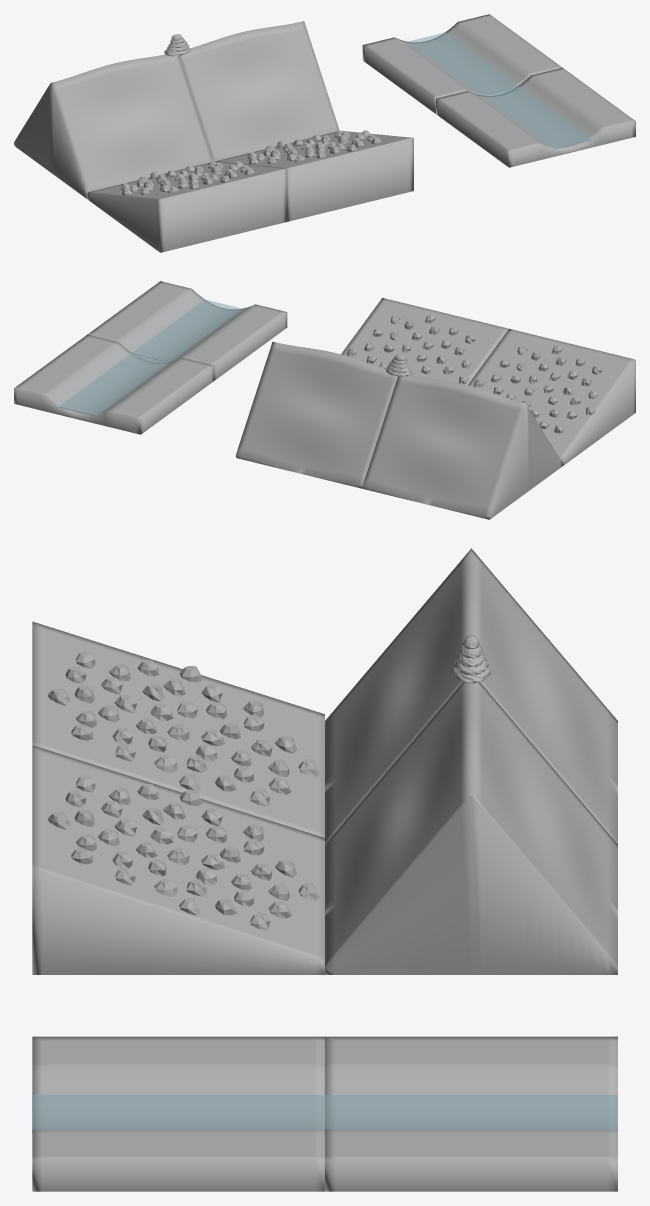
Rendered from alpine-and-arctic-biomes-summit-ridge-f236b96d__21064.glb.
3 renders of one model, top to bottom at view 1: azimuth 30°, elevation 25°; view 2: azimuth 150°, elevation 25°; view 3: azimuth 270°, elevation 25°, orthographic. The views are drawn at different scales.
Parts seen in each view (by area): view 1: 000-arete-ridge/0, 001-arete-ridge/0, 006-meltwater-straight/0, 002-scree-slope/0, 005-meltwater-straight/0, 003-scree-slope/0, 006-meltwater-straight/1, 005-meltwater-straight/1; view 2: 000-arete-ridge/0, 001-arete-ridge/0, 005-meltwater-straight/0, 002-scree-slope/0, 006-meltwater-straight/0, 003-scree-slope/0, 005-meltwater-straight/1, 006-meltwater-straight/1; view 3: 001-arete-ridge/0, 005-meltwater-straight/0, 006-meltwater-straight/0, 003-scree-slope/0, 000-arete-ridge/0, 002-scree-slope/0, 006-meltwater-straight/1, 005-meltwater-straight/1.
Boxes of the visible parts, x1=… form: 000-arete-ridge/0: x1=14, y1=54, x2=212, y2=198; 001-arete-ridge/0: x1=179, y1=21, x2=339, y2=161; 006-meltwater-straight/0: x1=436, y1=67, x2=635, y2=167; 002-scree-slope/0: x1=87, y1=162, x2=287, y2=252; 005-meltwater-straight/0: x1=362, y1=14, x2=562, y2=113; 003-scree-slope/0: x1=215, y1=131, x2=413, y2=221; 006-meltwater-straight/1: x1=481, y1=86, x2=591, y2=149; 005-meltwater-straight/1: x1=408, y1=32, x2=517, y2=95; 000-arete-ridge/0: x1=362, y1=375, x2=562, y2=519; 001-arete-ridge/0: x1=236, y1=341, x2=397, y2=488; 005-meltwater-straight/0: x1=14, y1=334, x2=213, y2=434; 002-scree-slope/0: x1=468, y1=328, x2=635, y2=465; 006-meltwater-straight/0: x1=87, y1=281, x2=287, y2=380; 003-scree-slope/0: x1=341, y1=298, x2=508, y2=385; 005-meltwater-straight/1: x1=59, y1=353, x2=168, y2=415; 006-meltwater-straight/1: x1=132, y1=299, x2=241, y2=361; 001-arete-ridge/0: x1=325, y1=681, x2=617, y2=974; 005-meltwater-straight/0: x1=325, y1=1036, x2=617, y2=1191; 006-meltwater-straight/0: x1=32, y1=1036, x2=324, y2=1191; 003-scree-slope/0: x1=32, y1=745, x2=324, y2=974; 000-arete-ridge/0: x1=325, y1=548, x2=617, y2=844; 002-scree-slope/0: x1=32, y1=621, x2=324, y2=837; 006-meltwater-straight/1: x1=32, y1=1095, x2=324, y2=1132; 005-meltwater-straight/1: x1=325, y1=1095, x2=617, y2=1129.
Size of the model in its own units: 15 by 3.24 by 8.
